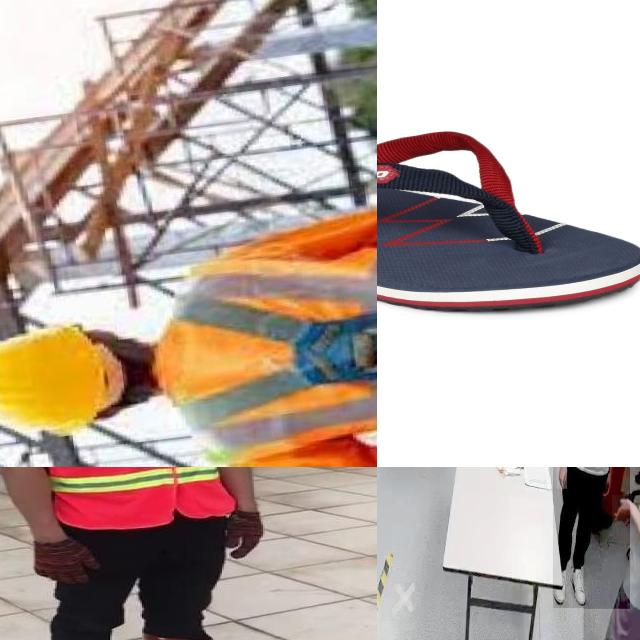Harness: (151, 215, 377, 467)
Sandals: (377, 126, 640, 315)
hand_noglove: (612, 495, 632, 523), (601, 471, 611, 497), (556, 467, 567, 489)
person: (0, 467, 278, 640), (553, 467, 630, 608), (583, 467, 640, 640)
shoes: (569, 555, 589, 607)
vest: (46, 467, 233, 529)
